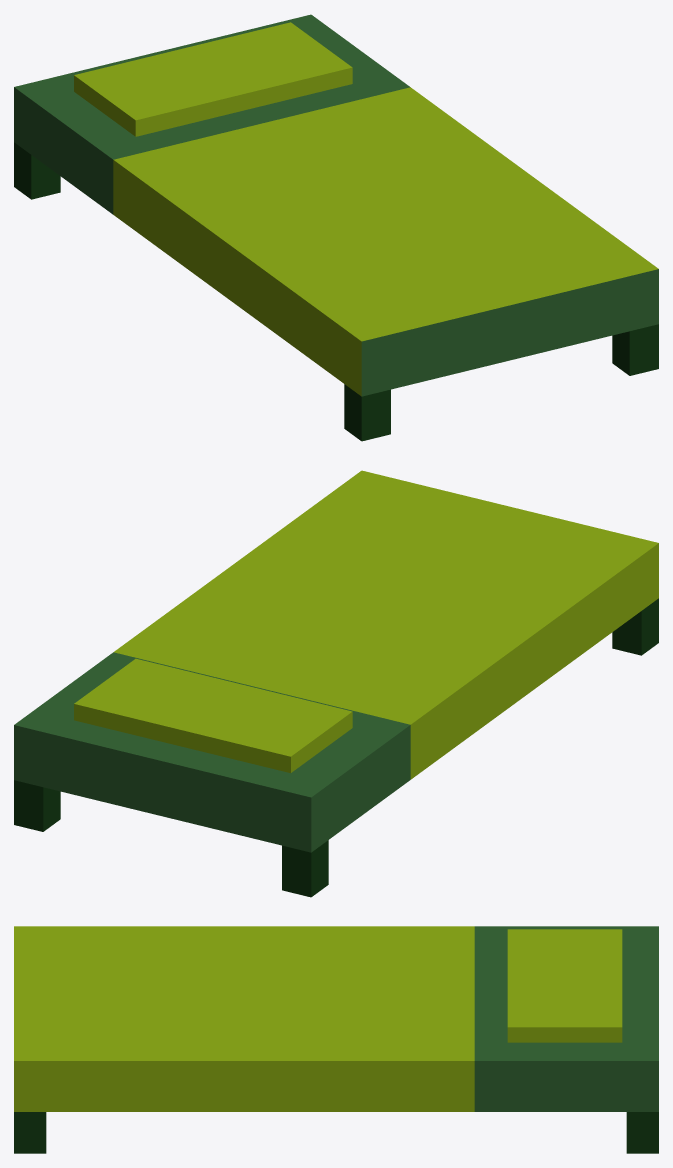
File: bed.obj
The picture shows the model from 3 angles, top to bottom: view 1: azimuth 30°, elevation 25°; view 2: azimuth 150°, elevation 25°; view 3: azimuth 270°, elevation 25°; orthographic projection. The views are drawn at different scales.
Visible parts, largest first — view 1: Cube; view 2: Cube; view 3: Cube.
Part boxes in pixels (<box>): Cube: <box>14,14,658,441</box>; Cube: <box>14,470,658,897</box>; Cube: <box>14,926,658,1153</box>.
Size of the model in its own units: 0.6329 by 0.2369 by 1.28.
